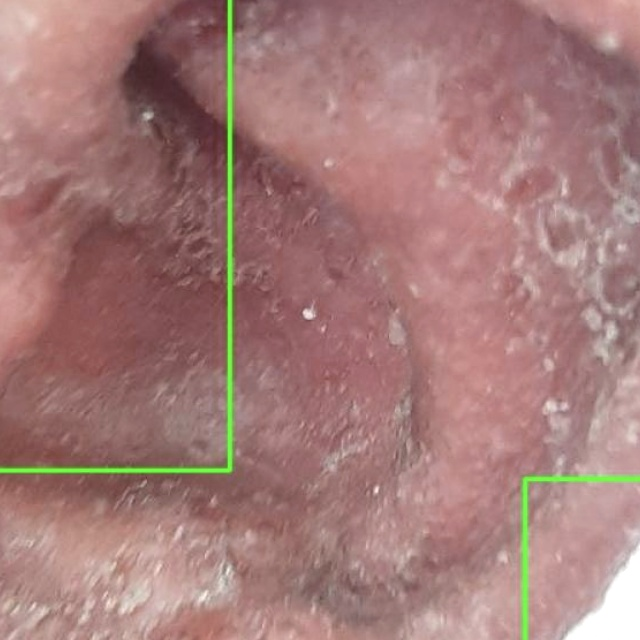Eczema: (0, 0, 229, 470)
